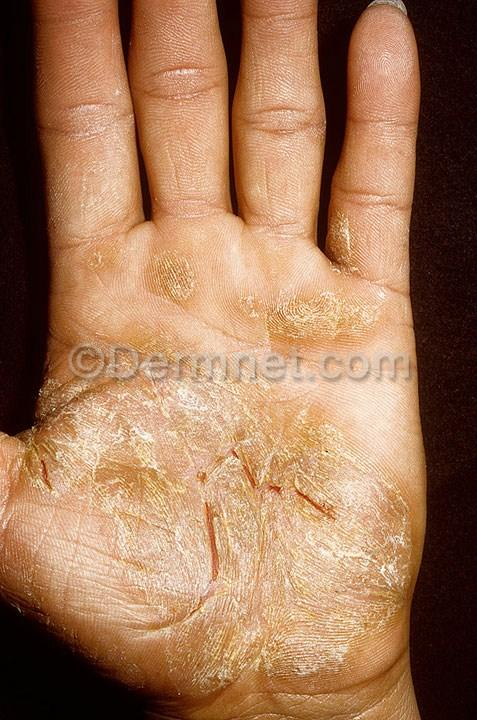Eczema: (57, 367, 433, 705)
